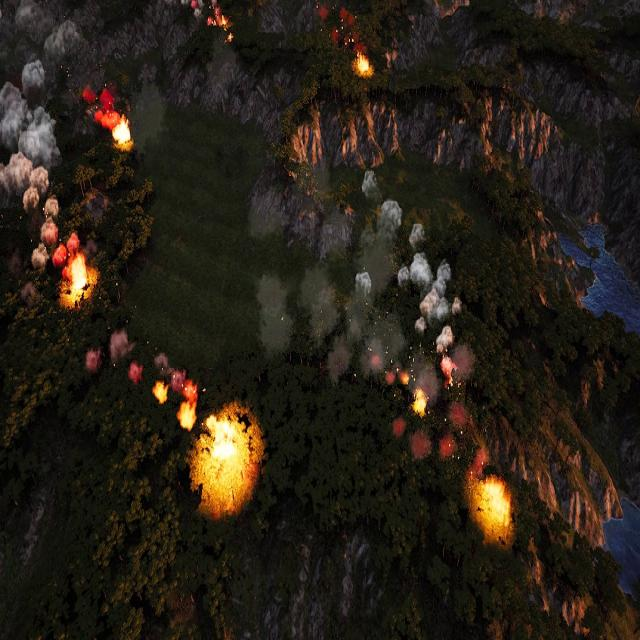fire: (196, 410, 253, 501), (479, 475, 512, 528), (206, 0, 236, 44), (66, 254, 89, 301), (178, 380, 198, 432), (111, 122, 132, 147), (414, 388, 428, 416), (354, 56, 372, 77), (152, 382, 166, 404)
smoke: (251, 160, 474, 464), (0, 18, 80, 266), (86, 84, 120, 126), (156, 352, 184, 386), (110, 331, 138, 364), (85, 346, 101, 373), (128, 361, 144, 382)
